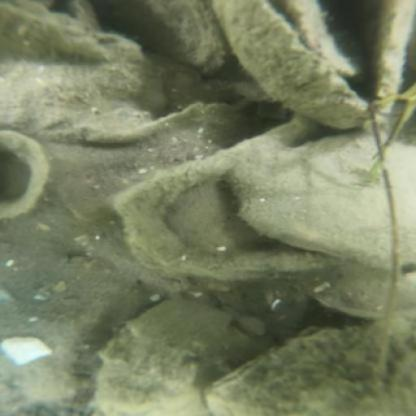Oyster-Closed: (233, 132, 415, 266), (205, 300, 413, 413), (88, 298, 232, 415), (2, 32, 153, 128), (110, 0, 234, 74), (283, 0, 370, 86), (0, 0, 114, 60)
Oyster-Open: (215, 0, 416, 130)
